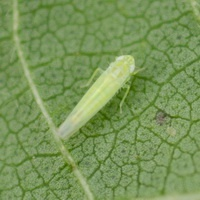insect: (58, 55, 134, 138)
